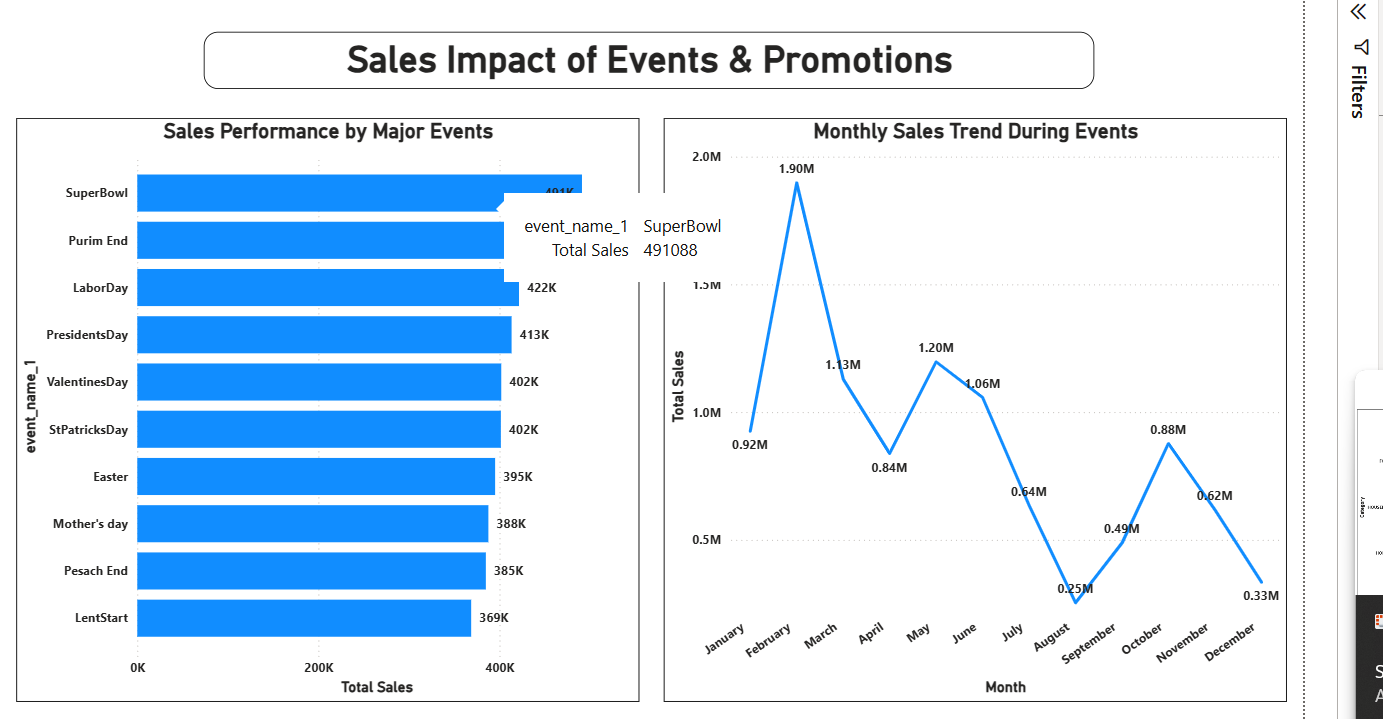

The page's visual inventory and layout, read from the dashboard file:
{"tool":"powerbi","page":{"name":"Sales Impact & Promotions","canvas":[1280,720],"ordinal":2},"visuals":[{"type":"textbox","title":"Sales Impact of Events & Promotions","box":[204.5,42.5,871.4,56.3],"z":0},{"type":"barChart","title":"Sales Performance by Major Events","fields":{"Category":["clean_sales_data.event_name_1"],"Y":["clean_sales_data.Total Sales"]},"box":[20.6,127.6,609.3,570.8],"z":1000},{"type":"lineChart","title":"Monthly Sales Trend During Events","fields":{"Y":["clean_sales_data.Total Sales"],"Category":["clean_sales_data.date.Variation.Date Hierarchy.Month"]},"box":[654.5,127.6,609.3,570.8],"z":2000}]}

Visuals, with their boxes on the page's 1280x720 design canvas (x1, y1, x2, y2). These are canvas units, not pixel positions in the 1383x719 screenshot, which may show the page scaled, cropped or inside an application window:
"Sales Impact of Events & Promotions" textbox: box=[204, 42, 1076, 99]
"Sales Performance by Major Events" barChart: box=[21, 128, 630, 698]
"Monthly Sales Trend During Events" lineChart: box=[654, 128, 1264, 698]
